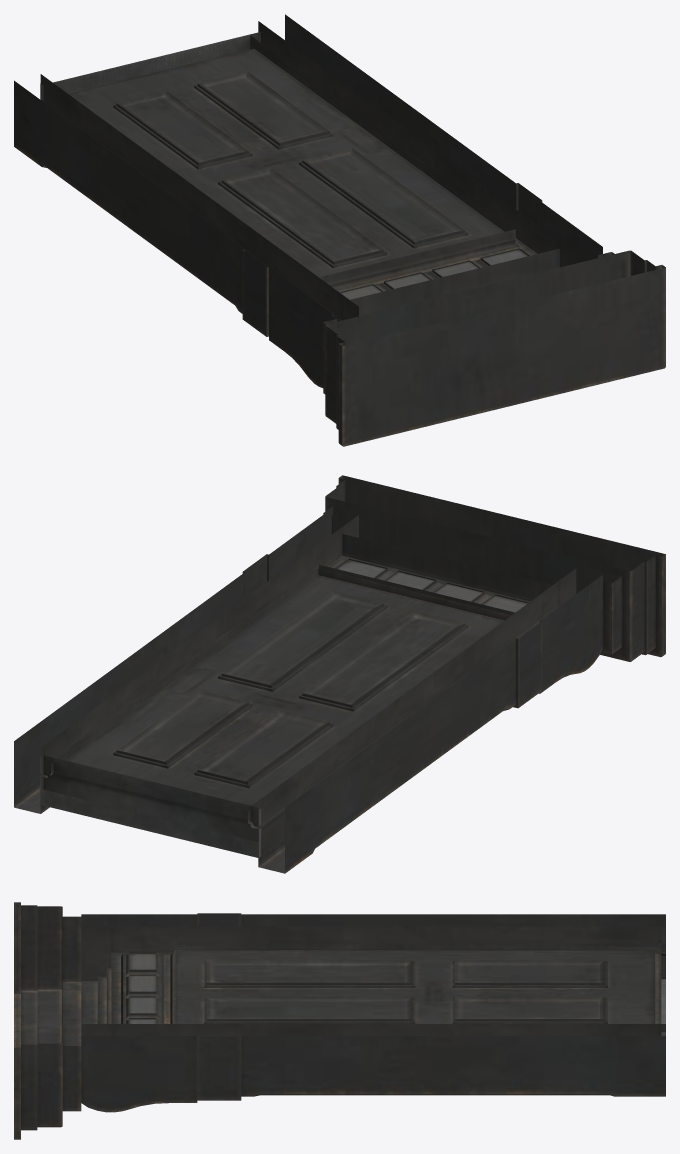
The model's file is door_centered_small_01.gltf.
The picture shows the model from 3 angles, top to bottom: view 1: azimuth 30°, elevation 25°; view 2: azimuth 150°, elevation 25°; view 3: azimuth 270°, elevation 25°; orthographic projection. The views are drawn at different scales.
Parts seen in each view (by area): view 1: door_centered_small_01; view 2: door_centered_small_01; view 3: door_centered_small_01.
Boxes of the visible parts, bbox=[...] form: door_centered_small_01: bbox=[14, 14, 665, 446]; door_centered_small_01: bbox=[14, 475, 665, 873]; door_centered_small_01: bbox=[14, 902, 665, 1139].
Size of the model in its own units: 1.48 by 0.44 by 2.81.
Materials: 2 (2 with a texture image).
